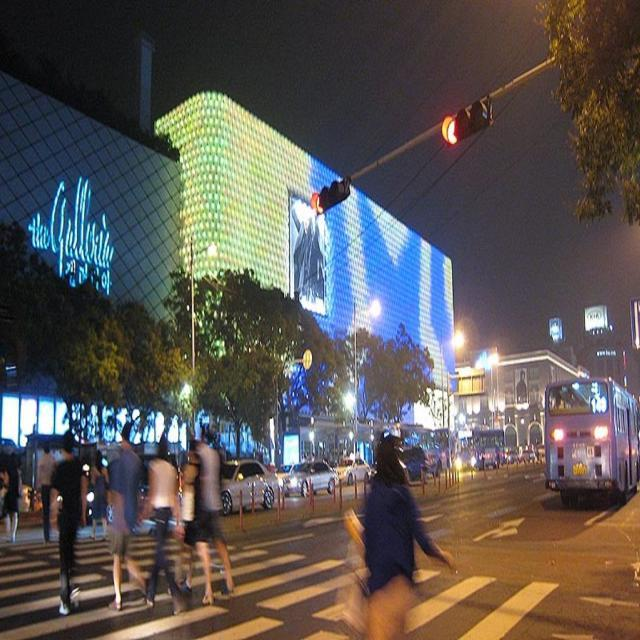traffic light: (441, 98, 493, 146), (309, 175, 350, 216)
